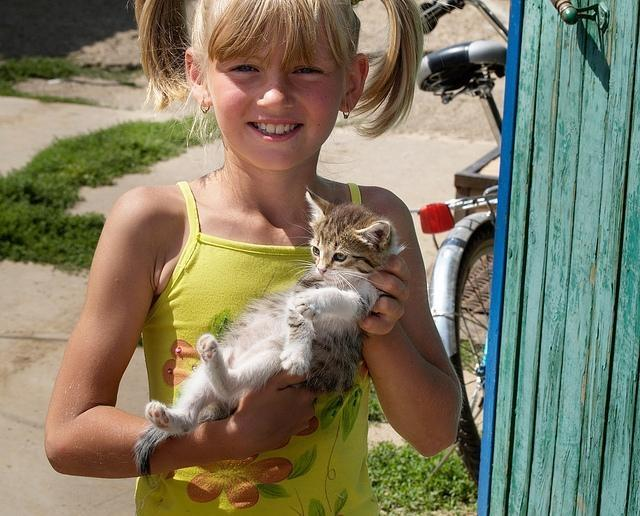bicycle: (416, 2, 507, 489)
